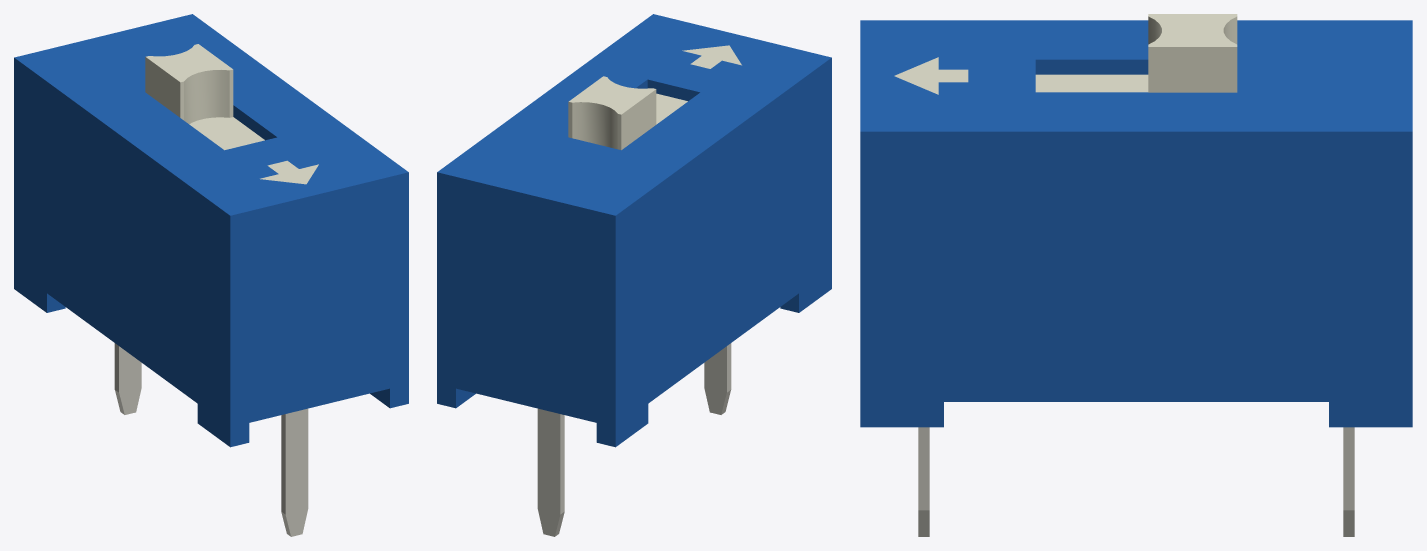
Rendered from kc-sw_dip_spstx01_slide_9.78x4.72mm_w7.62mm_p2.54mm.glb.
3 views of the same model, side by side, from view 1: azimuth 30°, elevation 25°; view 2: azimuth 150°, elevation 25°; view 3: azimuth 270°, elevation 25° (orthographic). The views are drawn at different scales.
Parts seen in each view (by area): view 1: 0_0.16666666666666666_0.5_0, 0.75_0.75_0.6666666666666666_0, 0.6666666666666666_0.6666666666666666_0.5833333333333334_0.8; view 2: 0_0.16666666666666666_0.5_0, 0.75_0.75_0.6666666666666666_0, 0.6666666666666666_0.6666666666666666_0.5833333333333334_0.8; view 3: 0_0.16666666666666666_0.5_0, 0.75_0.75_0.6666666666666666_0, 0.6666666666666666_0.6666666666666666_0.5833333333333334_0.8.
Boxes of the visible parts, box(x1,y1,x2,y2) form: 0_0.16666666666666666_0.5_0: box(14, 14, 408, 447); 0.75_0.75_0.6666666666666666_0: box(145, 44, 318, 184); 0.6666666666666666_0.6666666666666666_0.5833333333333334_0.8: box(114, 343, 308, 536); 0_0.16666666666666666_0.5_0: box(437, 14, 831, 447); 0.75_0.75_0.6666666666666666_0: box(568, 45, 741, 150); 0.6666666666666666_0.6666666666666666_0.5833333333333334_0.8: box(537, 343, 731, 536); 0_0.16666666666666666_0.5_0: box(860, 20, 1412, 427); 0.75_0.75_0.6666666666666666_0: box(894, 14, 1237, 94); 0.6666666666666666_0.6666666666666666_0.5833333333333334_0.8: box(918, 427, 1354, 536).
Bounding box in the file's own units: 0.472 × 0.995 × 0.99.
